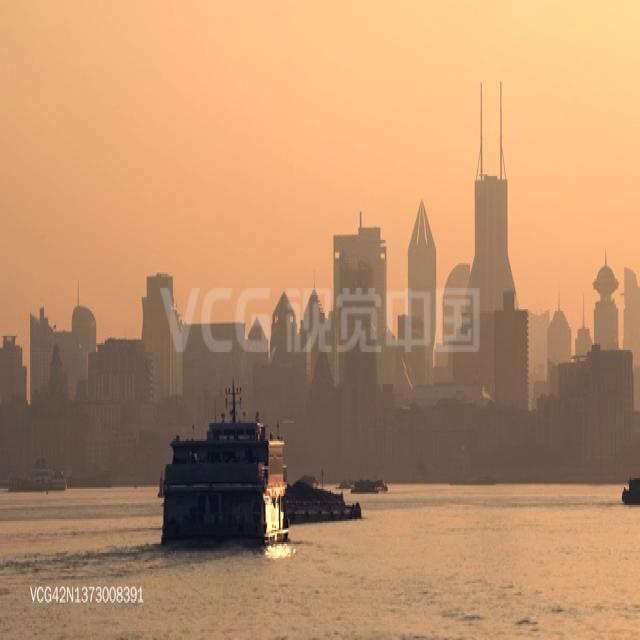cargoship: (279, 478, 359, 521), (619, 472, 640, 504), (351, 476, 389, 492), (297, 467, 318, 487), (334, 475, 354, 491)
passenger ship: (154, 387, 292, 545), (6, 450, 66, 490)
